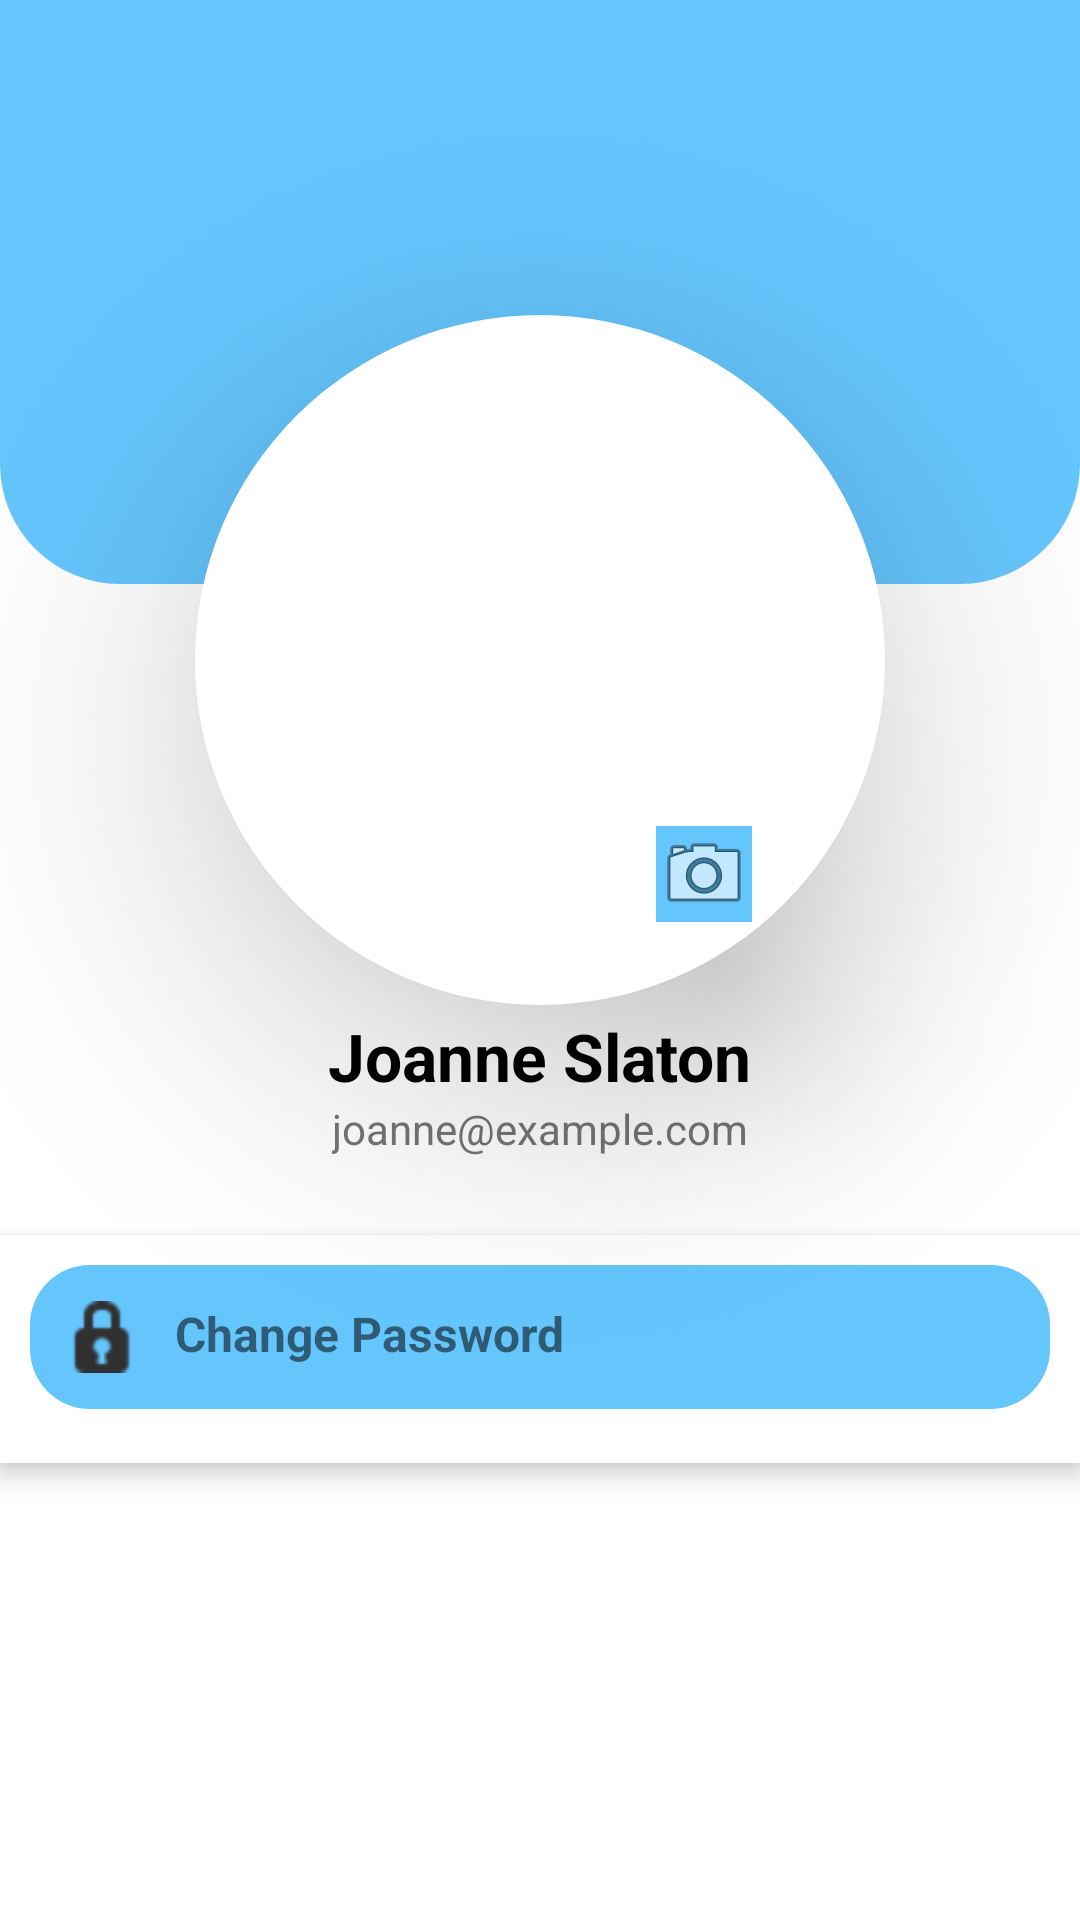

Named icons in this screenshot (1080×1920) and their bounding boxes, (x1, y1, x2, y2):
camera: (656, 826, 752, 922)
secure: (73, 1301, 130, 1373)
